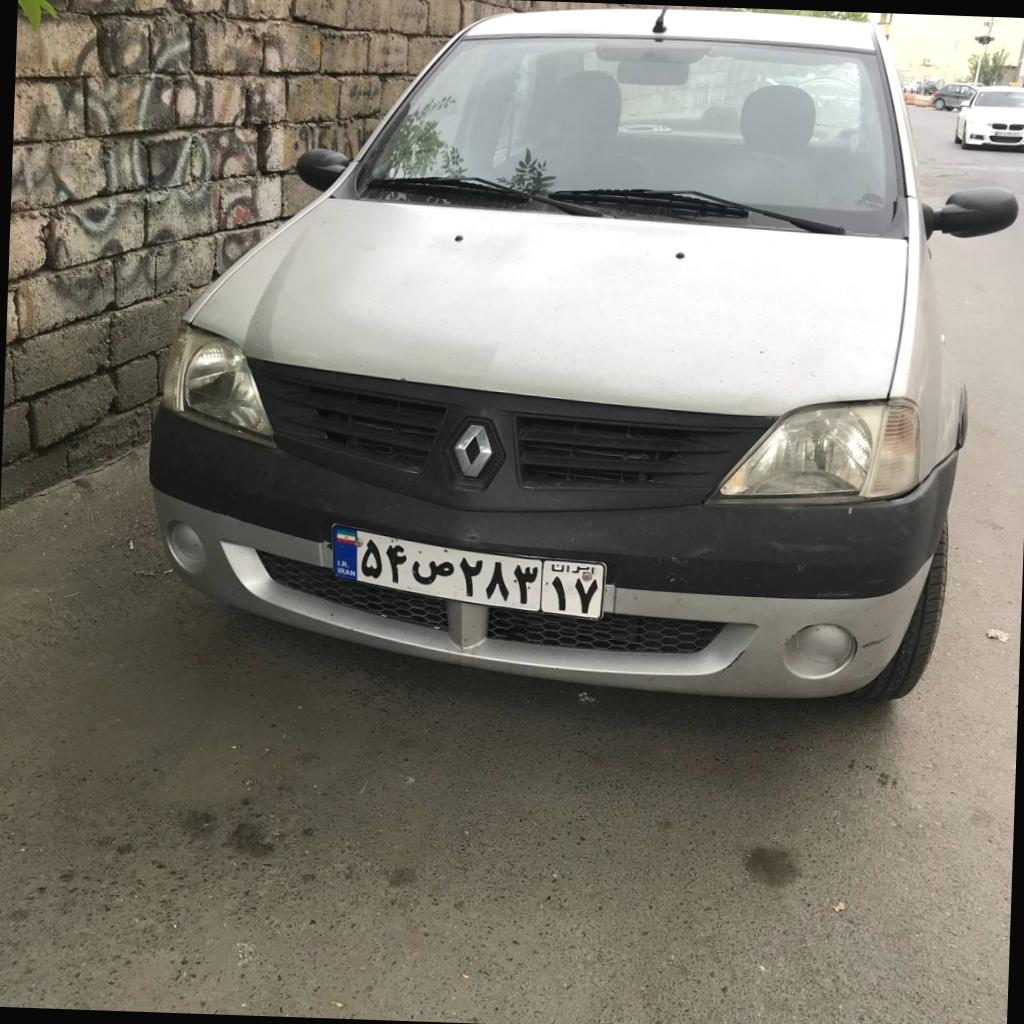Plates: (333, 525, 604, 618)
